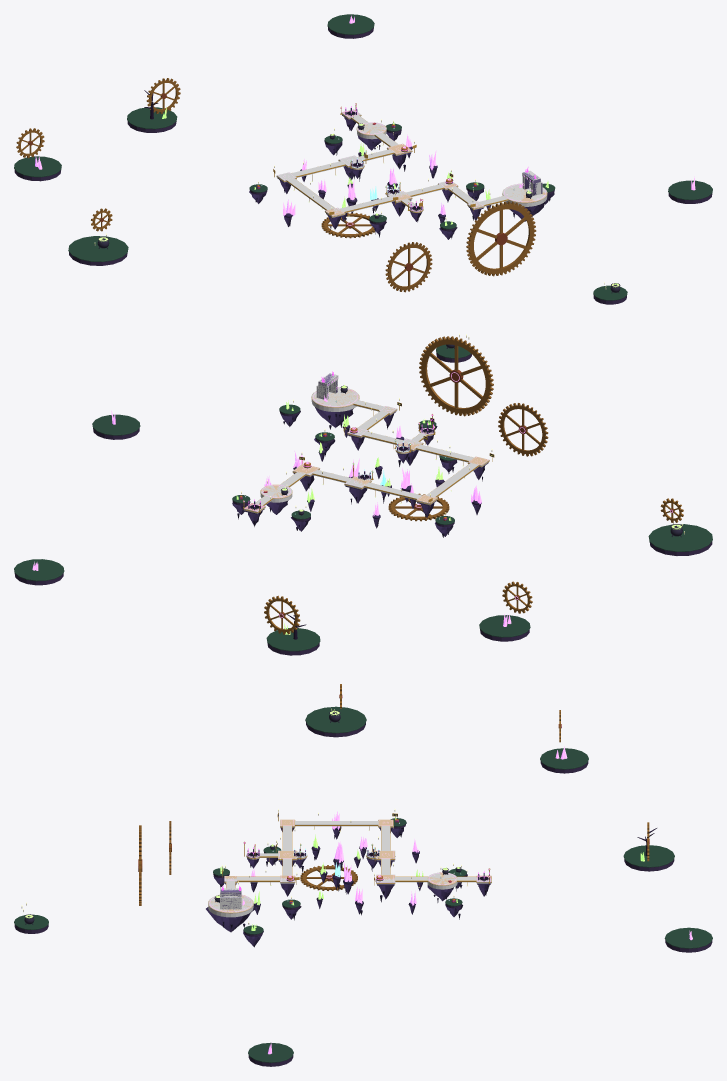
3 views of the same model, one above another, from view 1: azimuth 30°, elevation 25°; view 2: azimuth 150°, elevation 25°; view 3: azimuth 270°, elevation 25° (orthographic). The views are drawn at different scales.
Visible parts, largest first — view 1: V_grass_dark, C_0, V_rock, V_brass.001, V_dirt, V_glow_purple, V_brass, V_brass.002, V_walk, V_brass.003, V_brass.006; view 2: V_grass_dark, C_0, V_rock, V_brass.001, V_dirt, V_glow_purple, V_walk, V_brass.002, V_brass, V_brass.003, V_brass.006, V_glow_green; view 3: V_grass_dark, C_0, V_rock, V_dirt, V_glow_purple, V_walk, V_brass.
Part boxes in pixels (box(x1,y1,x2,y2)): V_grass_dark: box(14, 14, 712, 300); C_0: box(276, 109, 547, 217); V_rock: box(249, 117, 554, 239); V_brass.001: box(466, 201, 536, 276); V_dirt: box(14, 27, 712, 304); V_glow_purple: box(35, 15, 695, 215); V_brass: box(258, 103, 508, 218); V_brass.002: box(385, 242, 432, 292); V_walk: box(280, 110, 547, 215); V_brass.003: box(321, 212, 374, 238); V_brass.006: box(146, 78, 180, 114); V_grass_dark: box(14, 344, 712, 651); C_0: box(244, 387, 489, 513); V_rock: box(232, 407, 484, 536); V_brass.001: box(419, 336, 493, 416); V_dirt: box(14, 353, 712, 655); V_glow_purple: box(32, 377, 511, 626); V_walk: box(244, 387, 489, 512); V_brass.002: box(498, 403, 548, 456); V_brass: box(241, 402, 494, 517); V_brass.003: box(388, 493, 449, 521); V_brass.006: box(264, 595, 300, 634); V_glow_green: box(236, 385, 681, 634); V_grass_dark: box(14, 706, 712, 1062); C_0: box(208, 820, 491, 917); V_rock: box(206, 823, 489, 946); V_dirt: box(14, 722, 712, 1066); V_glow_purple: box(209, 746, 692, 1054); V_walk: box(208, 819, 491, 913); V_brass: box(222, 812, 491, 901).
Size of the model in its own units: 188 by 29.97 by 185.
